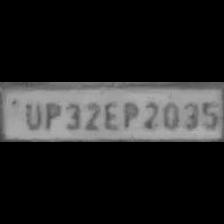0: (158, 98, 180, 130)
2: (81, 98, 101, 132), (139, 98, 159, 132)
3: (180, 98, 200, 132), (62, 99, 82, 131)
5: (200, 96, 220, 130)
E: (100, 100, 118, 132)
P: (119, 98, 138, 132), (42, 99, 60, 131)
U: (20, 98, 40, 130)
